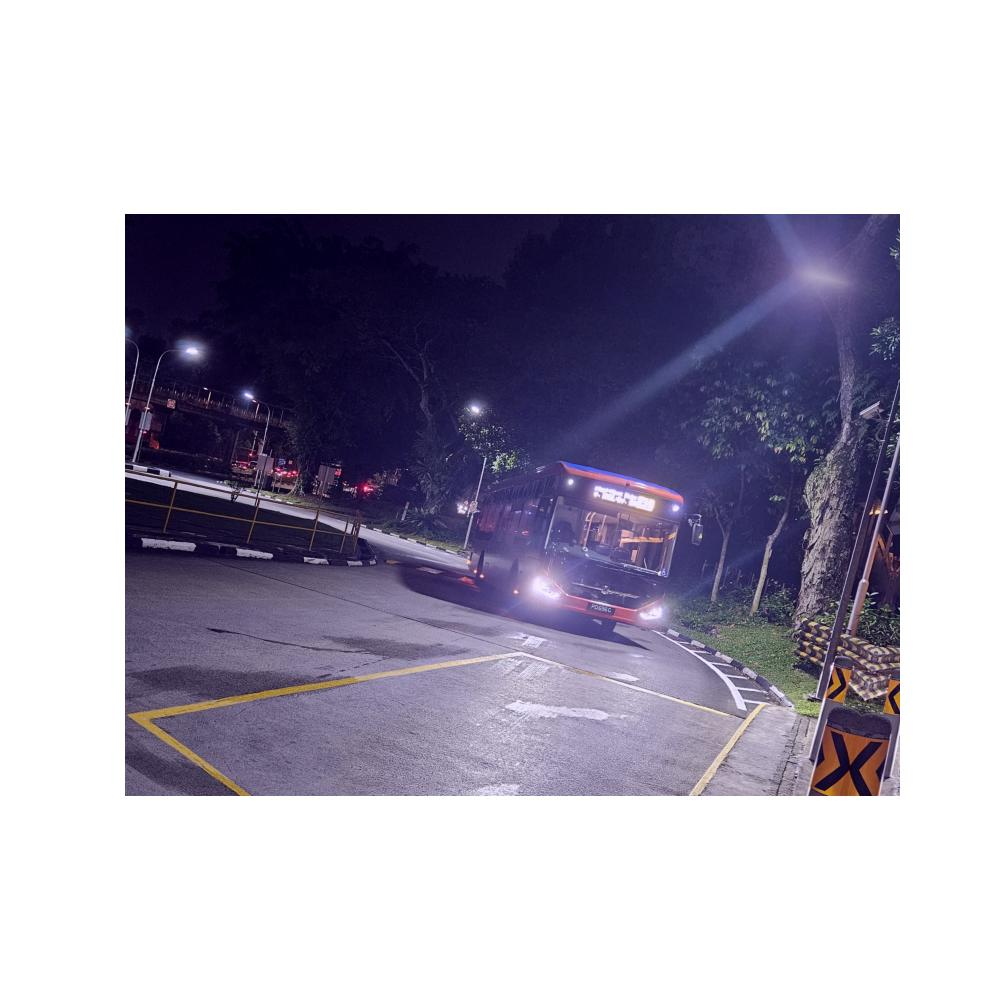bus: (468, 455, 701, 645)
